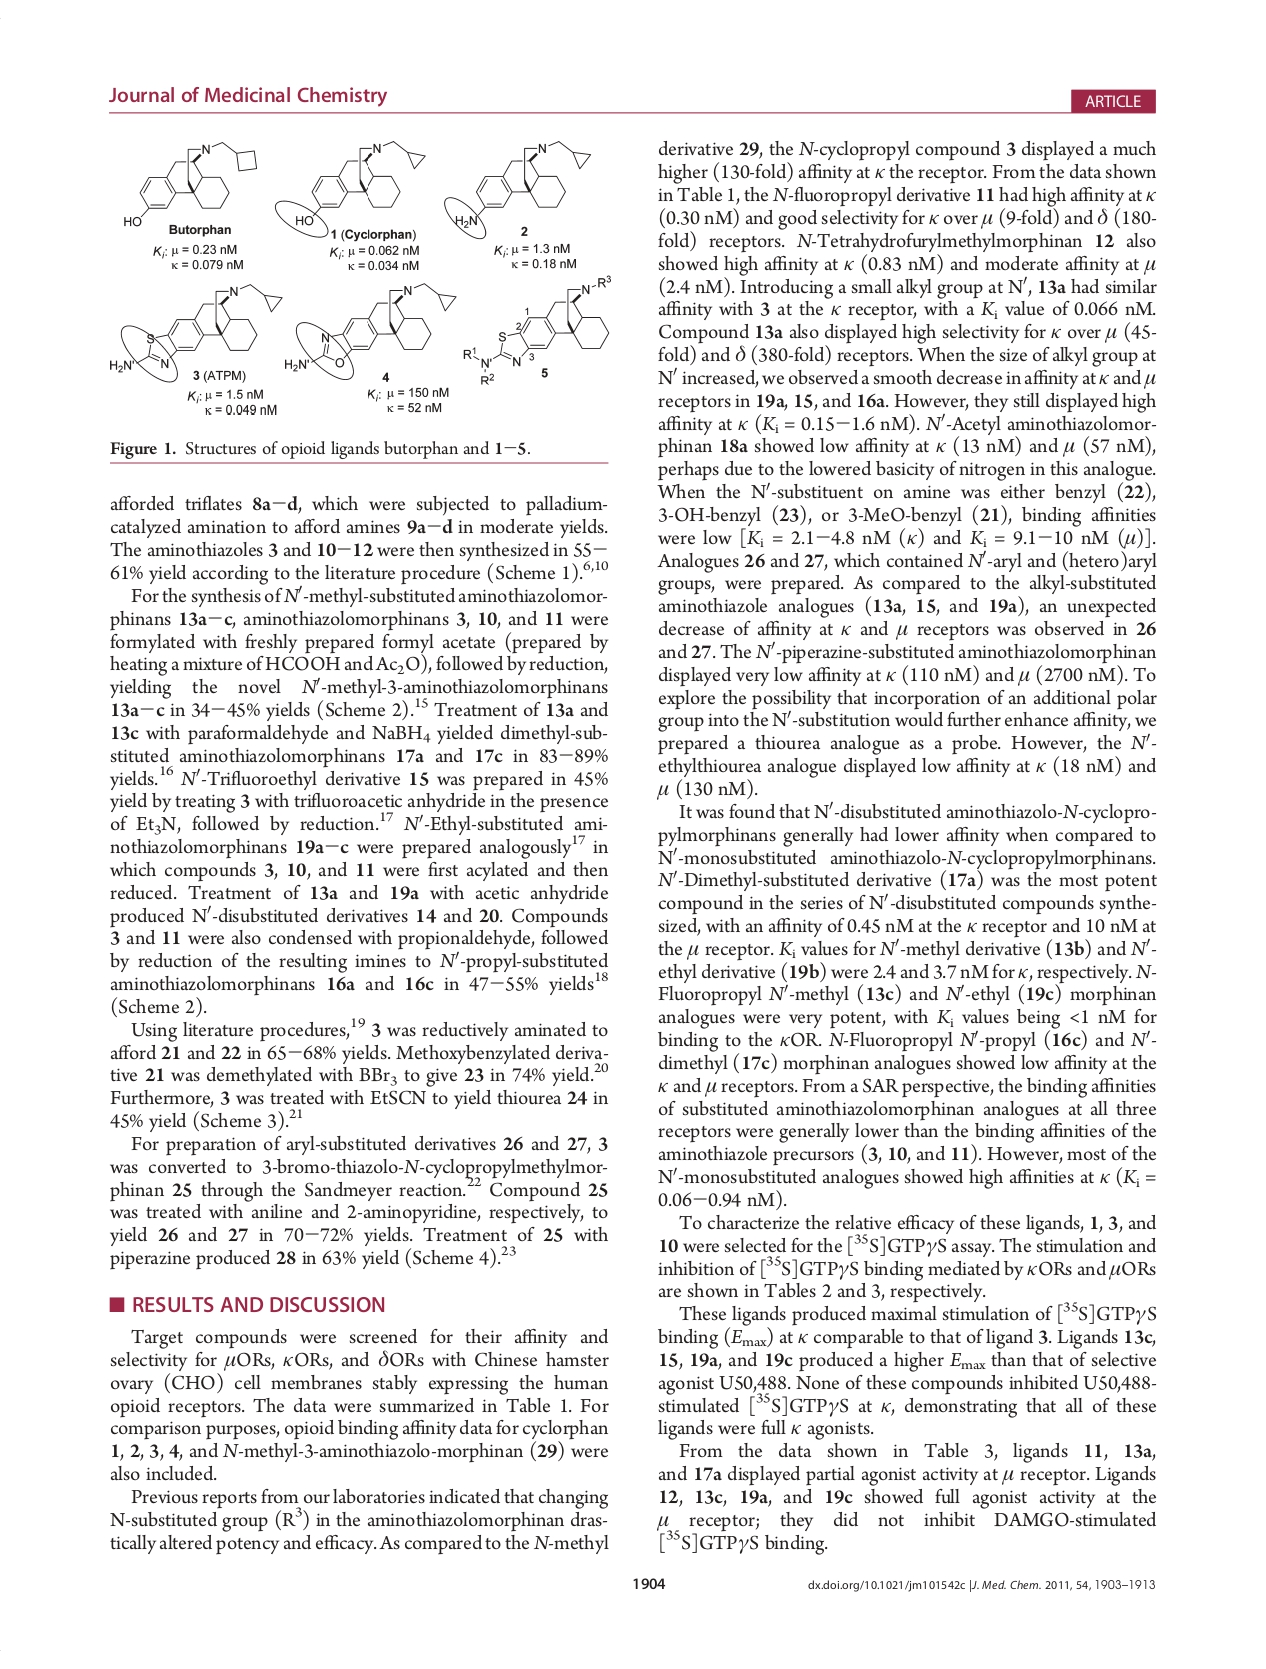exist_molecular: (283, 279, 457, 382), (459, 274, 614, 388), (106, 281, 283, 380), (451, 136, 596, 230), (118, 137, 261, 226), (293, 137, 428, 225)
